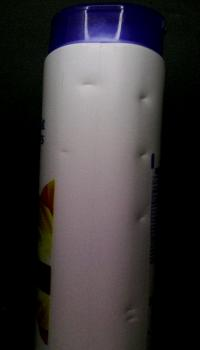dent_marginal: (130, 212, 150, 226), (118, 319, 142, 328), (78, 79, 98, 89), (121, 305, 142, 314), (134, 93, 152, 103), (56, 147, 72, 158), (134, 148, 141, 158)
